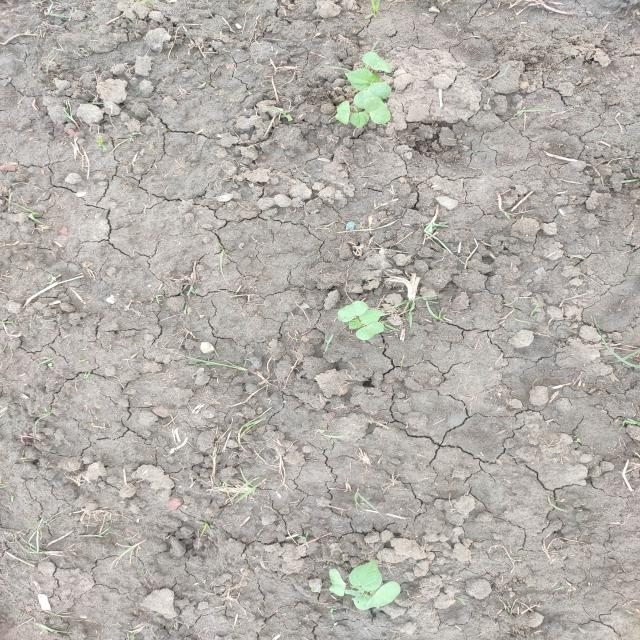seedling_s4: (353, 82, 392, 109), (349, 560, 382, 591), (367, 581, 401, 607), (363, 96, 391, 124), (362, 52, 393, 73), (345, 586, 371, 610), (338, 301, 367, 322), (345, 69, 372, 90), (356, 322, 385, 340), (329, 568, 346, 597), (359, 310, 385, 325), (335, 100, 350, 124), (350, 111, 369, 129), (369, 72, 382, 85), (349, 318, 362, 329)
